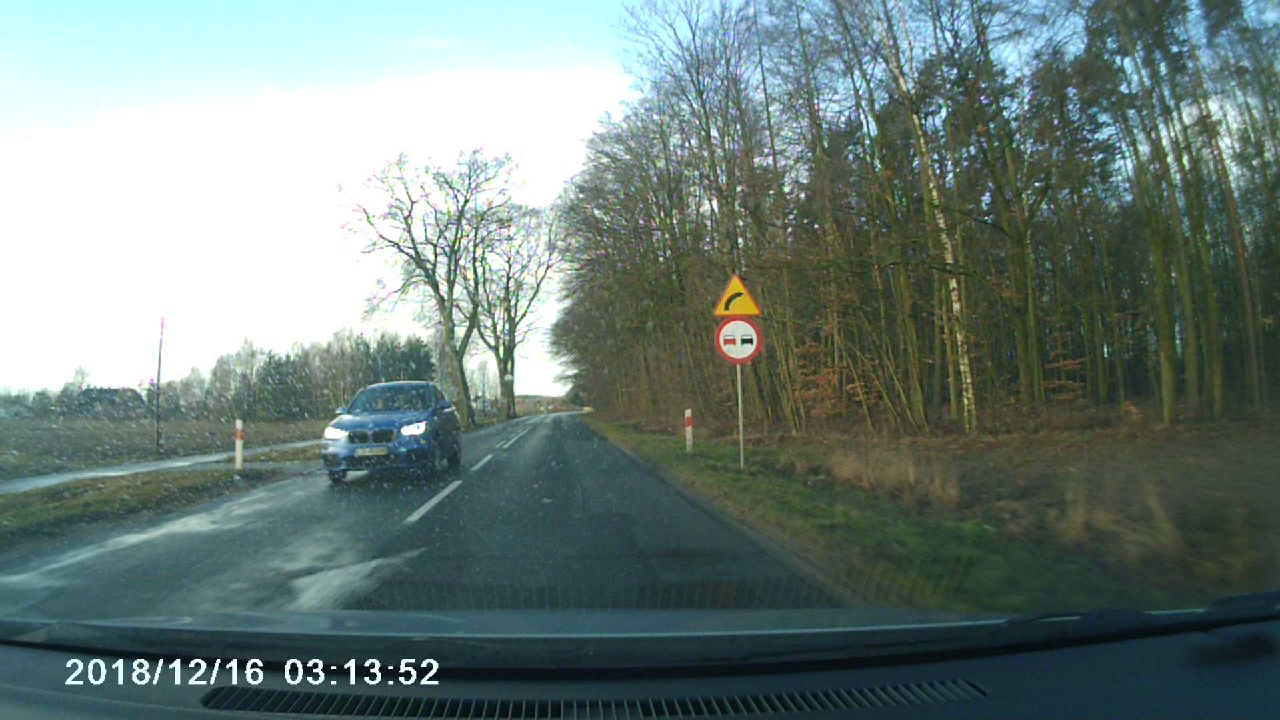A1: (713, 275, 764, 317)
B25: (714, 317, 762, 362)
